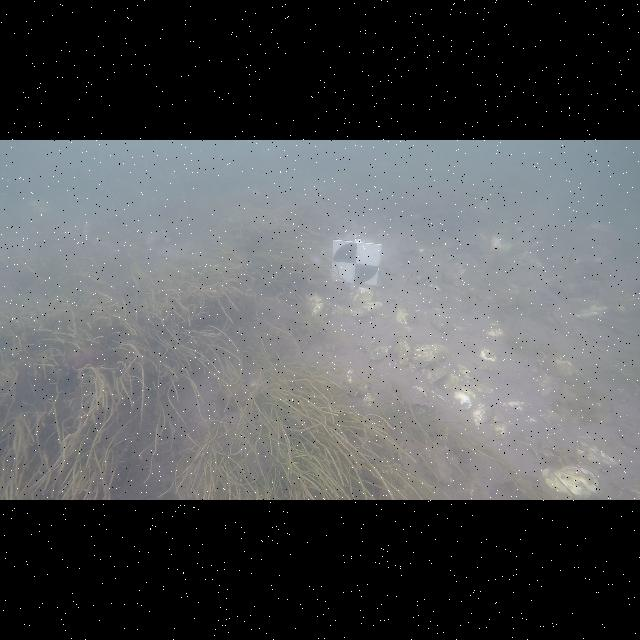Oyster-Closed: (541, 466, 599, 498), (414, 344, 449, 368), (305, 292, 330, 318), (346, 369, 370, 394), (394, 335, 412, 365), (478, 349, 498, 372), (422, 368, 448, 384), (351, 288, 374, 306), (471, 404, 488, 426), (442, 372, 460, 391), (491, 420, 510, 438), (408, 386, 426, 404), (454, 391, 472, 409), (368, 346, 390, 360), (397, 305, 411, 325), (362, 391, 375, 407)
Oyster-Open: (345, 300, 383, 323), (411, 310, 420, 325)
